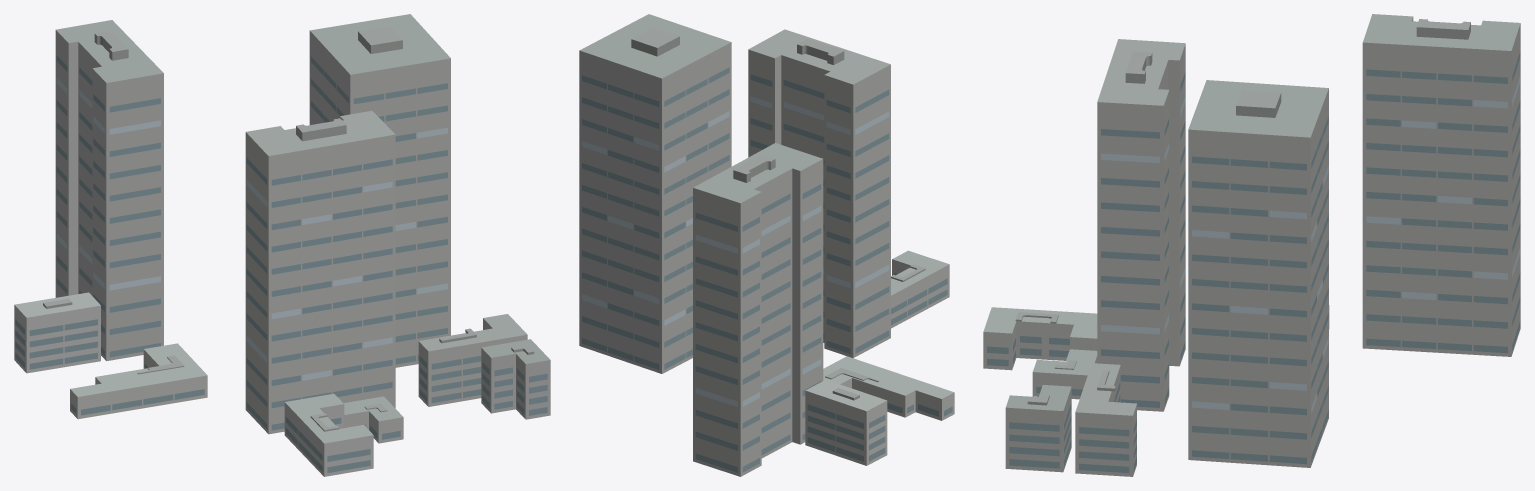
File: apt-a10022715.glb
3 views of the same model, side by side, from view 1: azimuth 30°, elevation 25°; view 2: azimuth 150°, elevation 25°; view 3: azimuth 270°, elevation 25° (orthographic). The views are drawn at different scales.
Visible parts, largest first — view 1: apt-a10022715; view 2: apt-a10022715; view 3: apt-a10022715.
Boxes of the visible parts, left/top/right/bottom form: apt-a10022715: left=14, top=14, right=550, bottom=476; apt-a10022715: left=579, top=14, right=954, bottom=476; apt-a10022715: left=983, top=14, right=1520, bottom=476.
Size of the model in its own units: 107 by 84.75 by 121.
